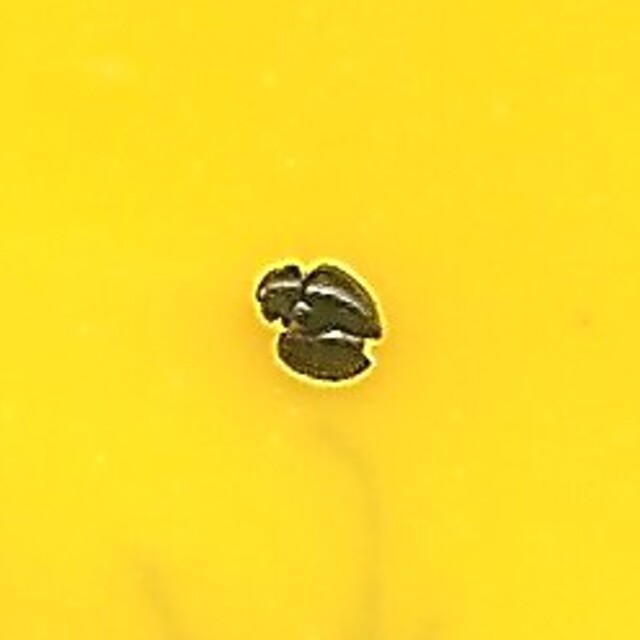Coleoptera: (258, 258, 382, 382)
